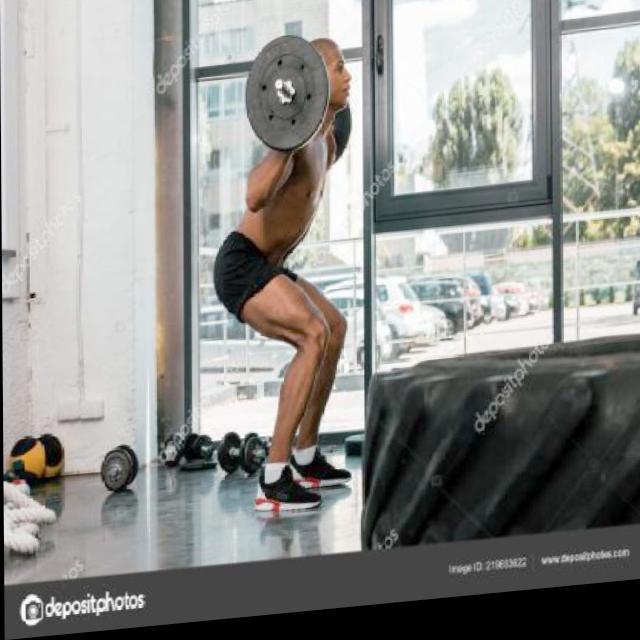barbell: (243, 33, 333, 164)
